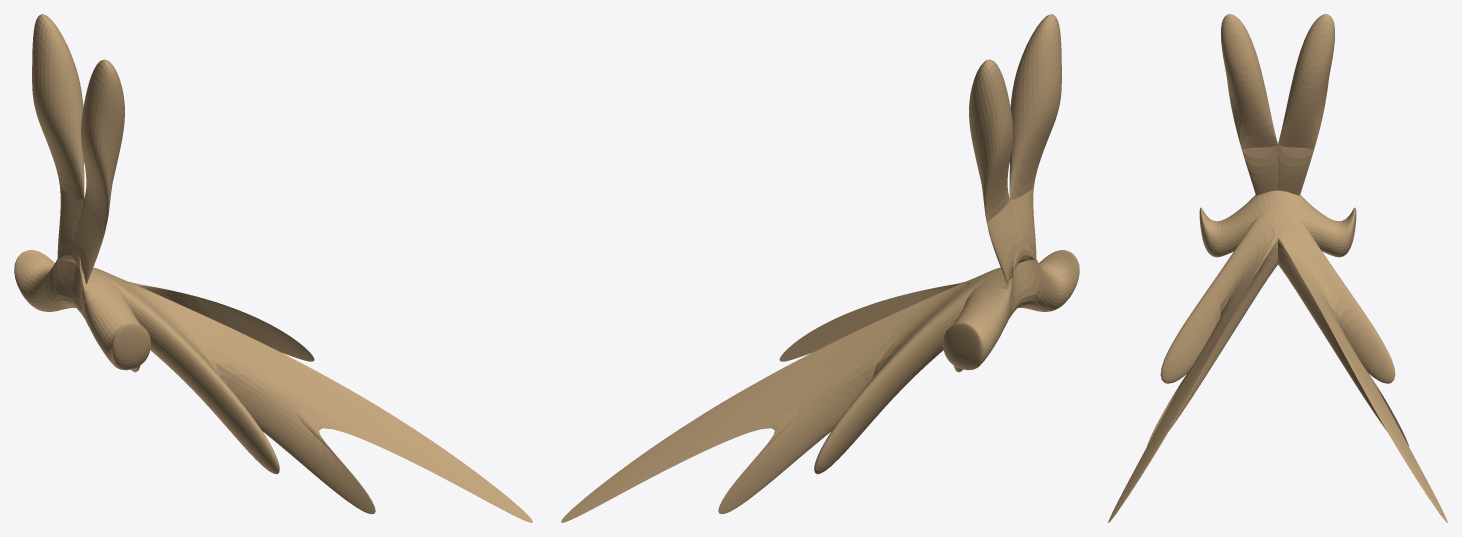
File: Creaturestruc8.obj
3 renders of one model, left to right at view 1: azimuth 30°, elevation 25°; view 2: azimuth 150°, elevation 25°; view 3: azimuth 270°, elevation 25°, orthographic. The views are drawn at different scales.
Parts seen in each view (by area): view 1: Cube_Cube.009; view 2: Cube_Cube.009; view 3: Cube_Cube.009.
Boxes of the visible parts, left/top/right/bottom form: Cube_Cube.009: left=14, top=14, right=532, bottom=522; Cube_Cube.009: left=561, top=14, right=1079, bottom=522; Cube_Cube.009: left=1108, top=14, right=1447, bottom=522.
Size of the model in its own units: 16.62 by 21.47 by 17.5.
